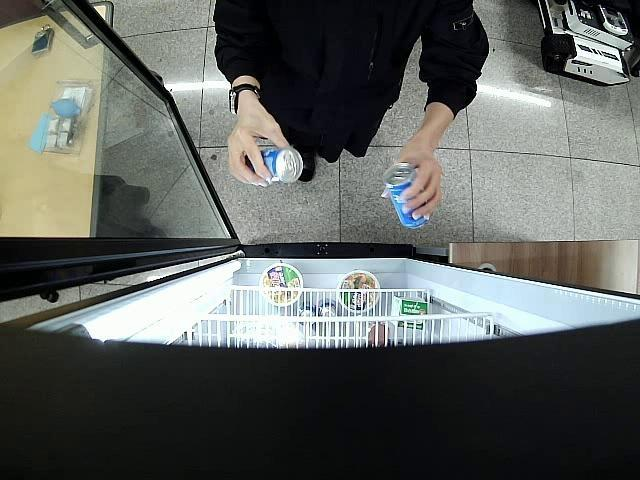15_letsbe: (382, 162, 432, 228), (247, 147, 304, 185)
